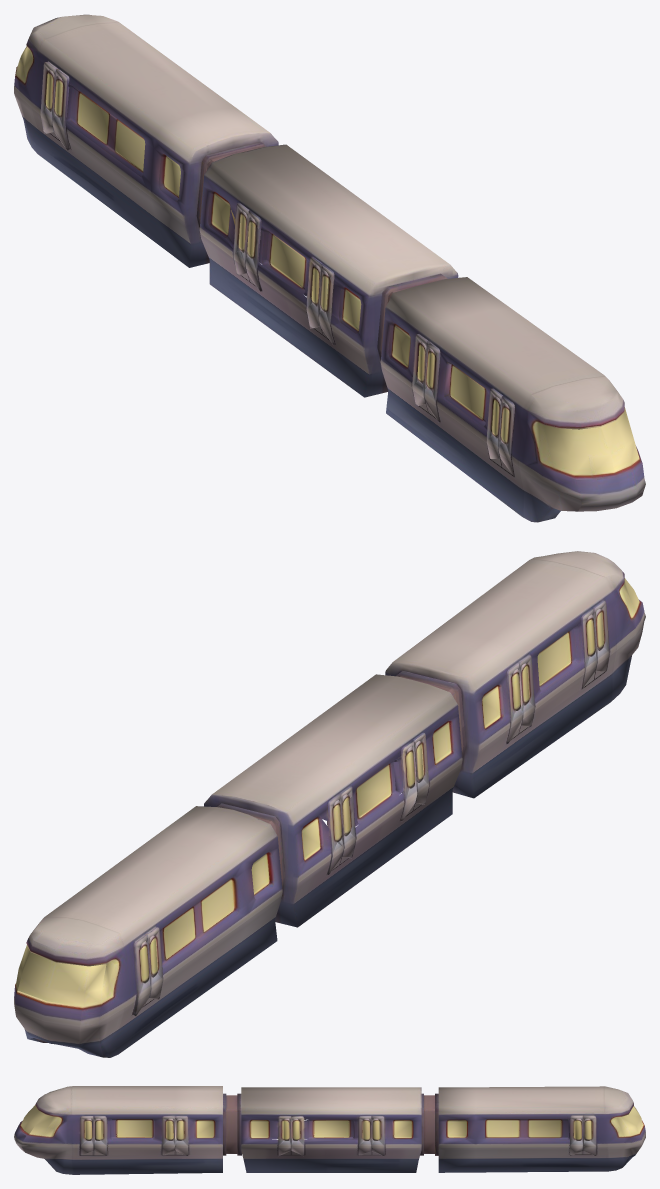
Rendered from asset.glb.
The picture shows the model from 3 angles, top to bottom: view 1: azimuth 30°, elevation 25°; view 2: azimuth 150°, elevation 25°; view 3: azimuth 270°, elevation 25°; orthographic projection. The views are drawn at different scales.
Parts seen in each view (by area): view 1: tripo_node_de4a8282-4ef9-4bdd-a4bb-0aa8d3634333; view 2: tripo_node_de4a8282-4ef9-4bdd-a4bb-0aa8d3634333; view 3: tripo_node_de4a8282-4ef9-4bdd-a4bb-0aa8d3634333.
Part boxes in pixels (<box>): tripo_node_de4a8282-4ef9-4bdd-a4bb-0aa8d3634333: <box>14,14,645,522</box>; tripo_node_de4a8282-4ef9-4bdd-a4bb-0aa8d3634333: <box>14,551,645,1057</box>; tripo_node_de4a8282-4ef9-4bdd-a4bb-0aa8d3634333: <box>14,1086,645,1174</box>.
Size of the model in its own units: 8.25 by 9.96 by 83.
1 material, 1 textured.
